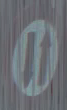Two way: (11, 13, 59, 103)
